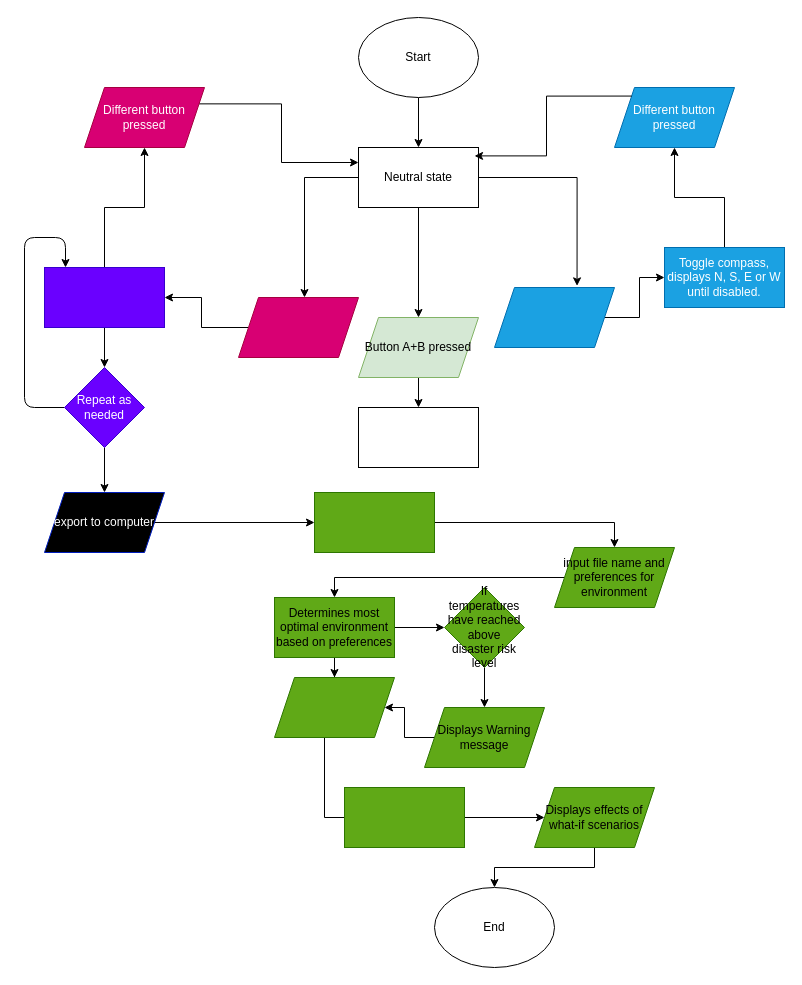
This 802x985 diagram has some shape labels left out. Each missing label, with the centre of its shape:
Button A pressed: point 298,327
Button B pressed: point 554,317
Displays best camps for given preferences: point 334,707
Log light, sound and temp to CSV, displays "logged" on LED: point 104,297
Python script is ran: point 374,522
Toggles buzzer, displays "SOS" on LED: point 418,437
What-if Scenarios: point 404,817
